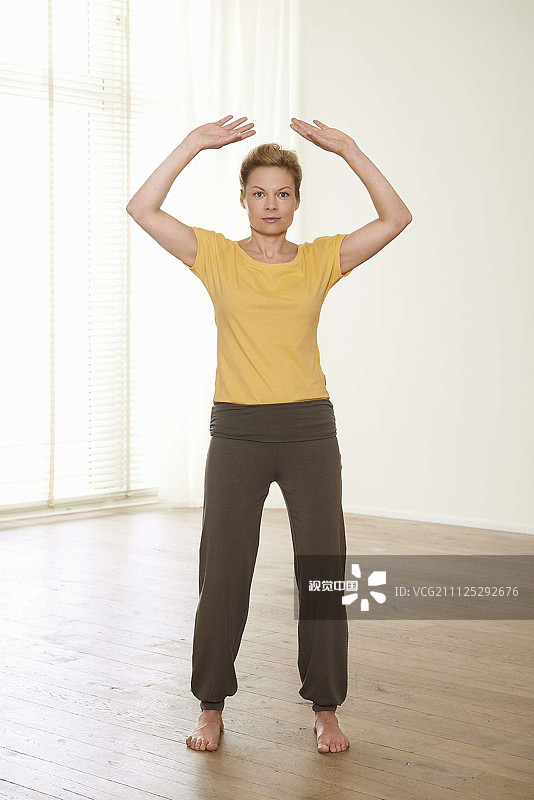no-phone: (282, 100, 365, 157), (178, 99, 263, 154)
